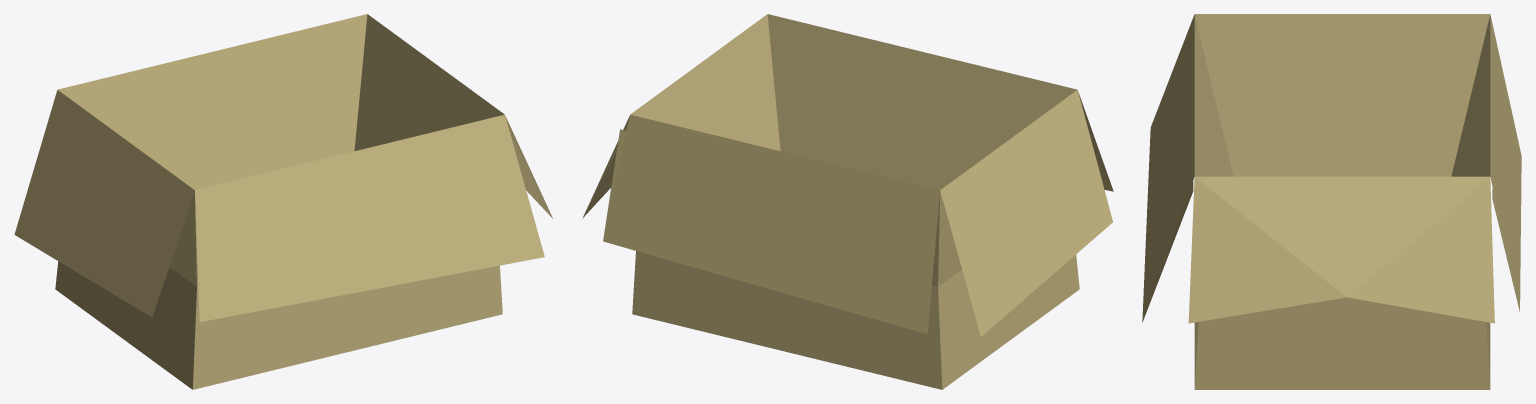
The model's file is CardboardBox.fbx.
3 renders of one model, left to right at view 1: azimuth 30°, elevation 25°; view 2: azimuth 150°, elevation 25°; view 3: azimuth 270°, elevation 25°, orthographic. The views are drawn at different scales.
Visible parts, largest first — view 1: CardboardBox; view 2: CardboardBox; view 3: CardboardBox.
Part boxes in pixels (x1,y1,x2,y2): CardboardBox: (14,14,552,389); CardboardBox: (582,14,1113,389); CardboardBox: (1142,14,1521,389).
Bounding box in the file's own units: 123 × 58.77 × 94.27.
